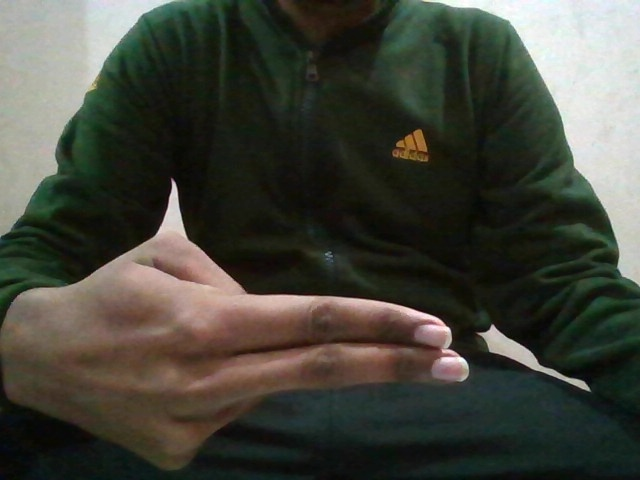H: (17, 234, 476, 473)
